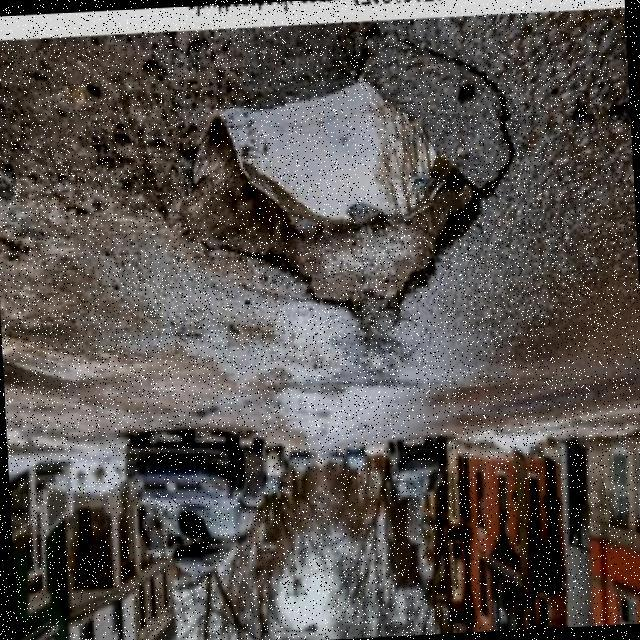Pothole: (193, 79, 481, 332)
